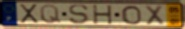H: (91, 4, 114, 25)
O: (120, 5, 143, 25)
Q: (39, 4, 63, 24)
S: (67, 4, 90, 25)
X: (144, 4, 166, 27), (17, 4, 41, 25)
